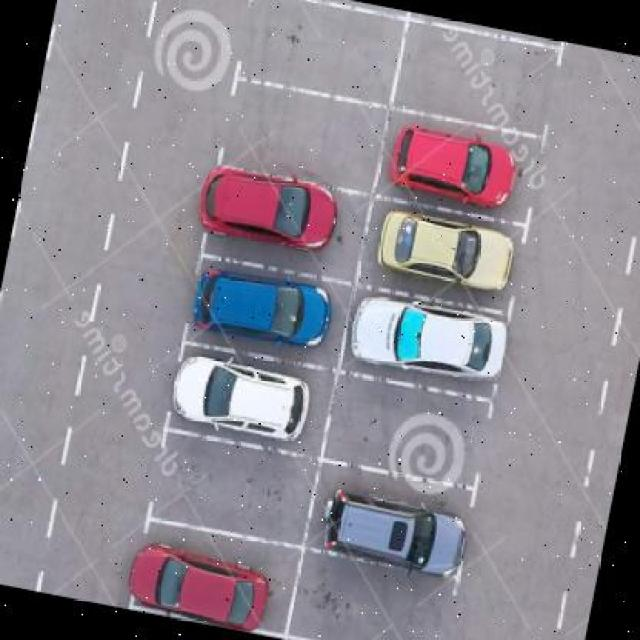Car: (189, 164, 366, 273), (123, 524, 292, 635), (344, 290, 520, 395), (164, 347, 329, 450), (317, 475, 480, 579), (366, 206, 524, 312), (186, 260, 343, 363), (384, 115, 535, 213)
Empty: (235, 1, 402, 106), (331, 381, 497, 484), (224, 92, 387, 196), (400, 27, 560, 132), (161, 437, 313, 537), (296, 553, 452, 640)
